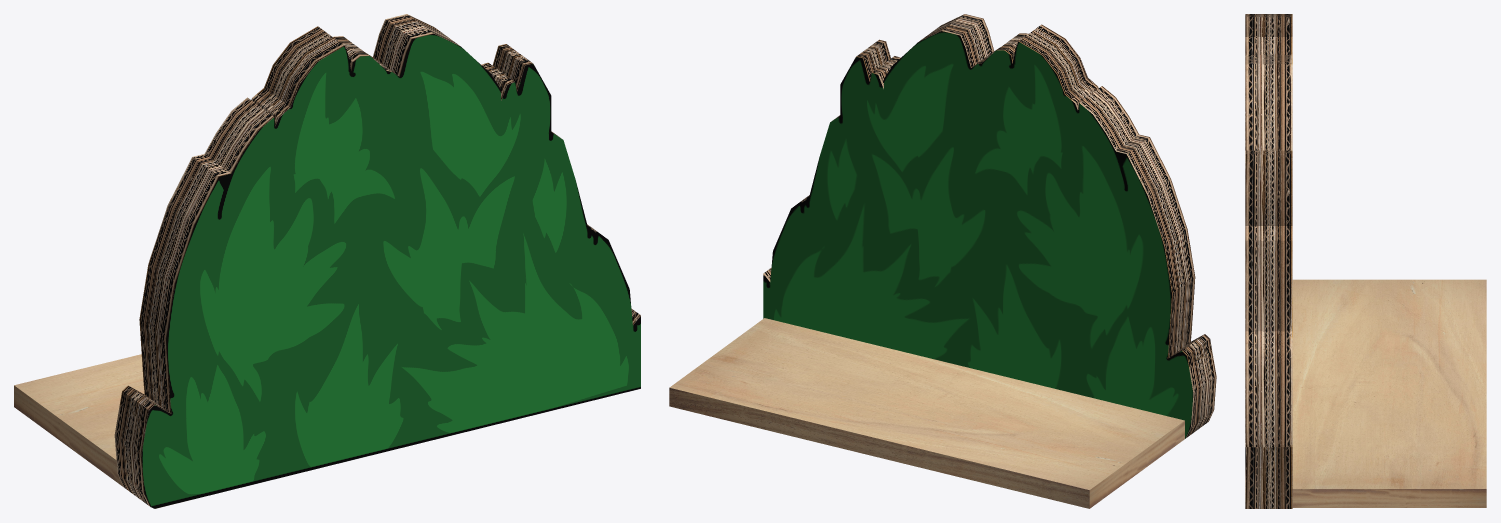
Rendered from Hardback_2_Model.fbx.
The picture shows the model from 3 angles, left to right: view 1: azimuth 30°, elevation 25°; view 2: azimuth 150°, elevation 25°; view 3: azimuth 270°, elevation 25°; orthographic projection. The views are drawn at different scales.
Visible parts, largest first — view 1: polySurface4, polySurface3, pCube17; view 2: polySurface4, pCube17, polySurface3; view 3: pCube17, polySurface3.
Boxes of the visible parts, left/top/right/bottom form: polySurface4: left=141, top=33, right=640, bottom=508; polySurface3: left=114, top=14, right=640, bottom=508; pCube17: left=14, top=354, right=144, bottom=486; polySurface4: left=763, top=31, right=1193, bottom=438; pCube17: left=669, top=318, right=1184, bottom=508; polySurface3: left=763, top=14, right=1216, bottom=437; pCube17: left=1292, top=279, right=1486, bottom=507; polySurface3: left=1245, top=14, right=1292, bottom=508.
Bounding box in the file's own units: 1.28 × 1.02 × 0.6089.
Materials: 3 (3 with a texture image).
